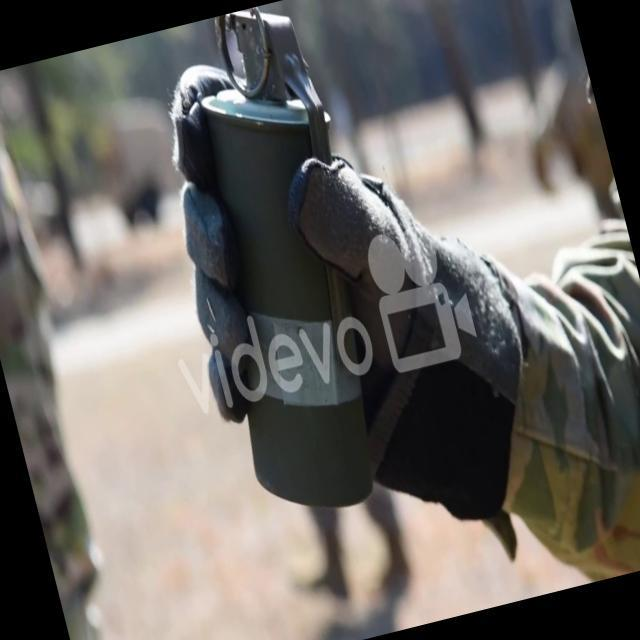grenade: (146, 5, 417, 529)
